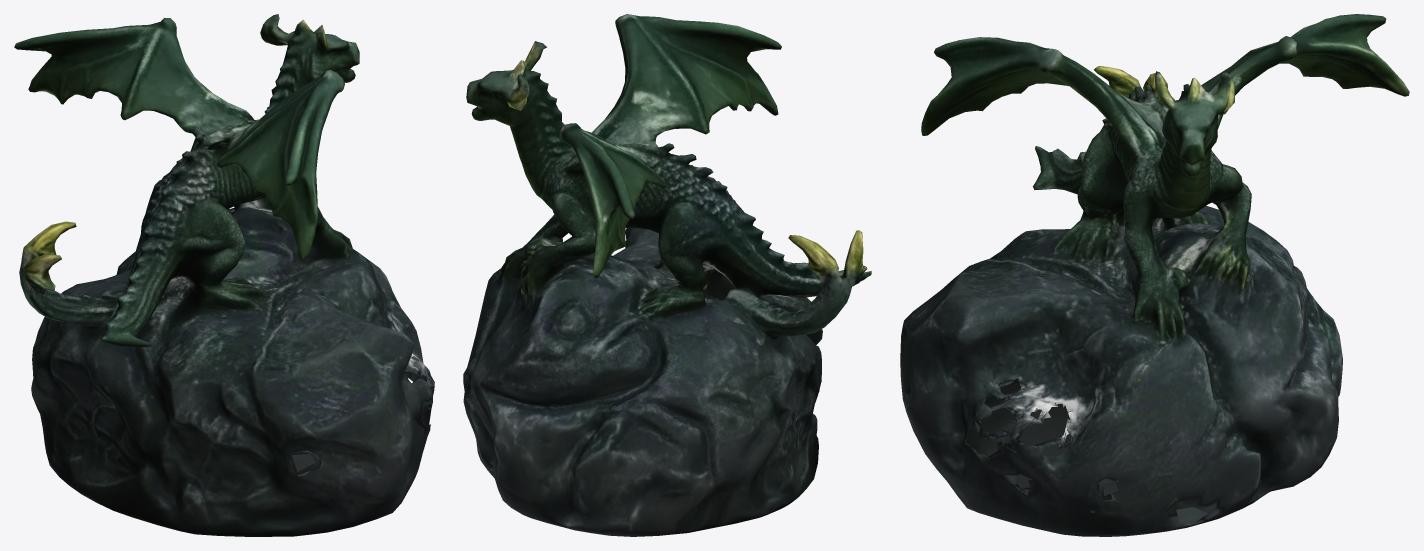
Rendered from dragon.glb.
3 views of the same model, side by side, from view 1: azimuth 30°, elevation 25°; view 2: azimuth 150°, elevation 25°; view 3: azimuth 270°, elevation 25° (orthographic). The views are drawn at different scales.
Parts seen in each view (by area): view 1: world; view 2: world; view 3: world.
Part boxes in pixels (x1,y1,x2,y2): world: (14, 14, 434, 536); world: (463, 14, 871, 536); world: (900, 14, 1409, 536).
Bounding box in the file's own units: 0.904 × 0.961 × 0.9866.
Materials: 1 (1 with a texture image).
